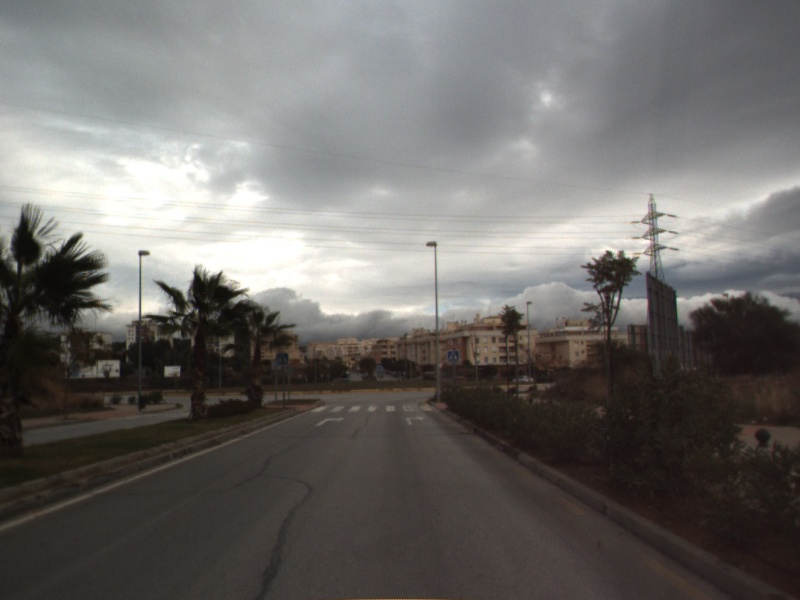RIGHT: (314, 414, 346, 428), (404, 414, 427, 427)
